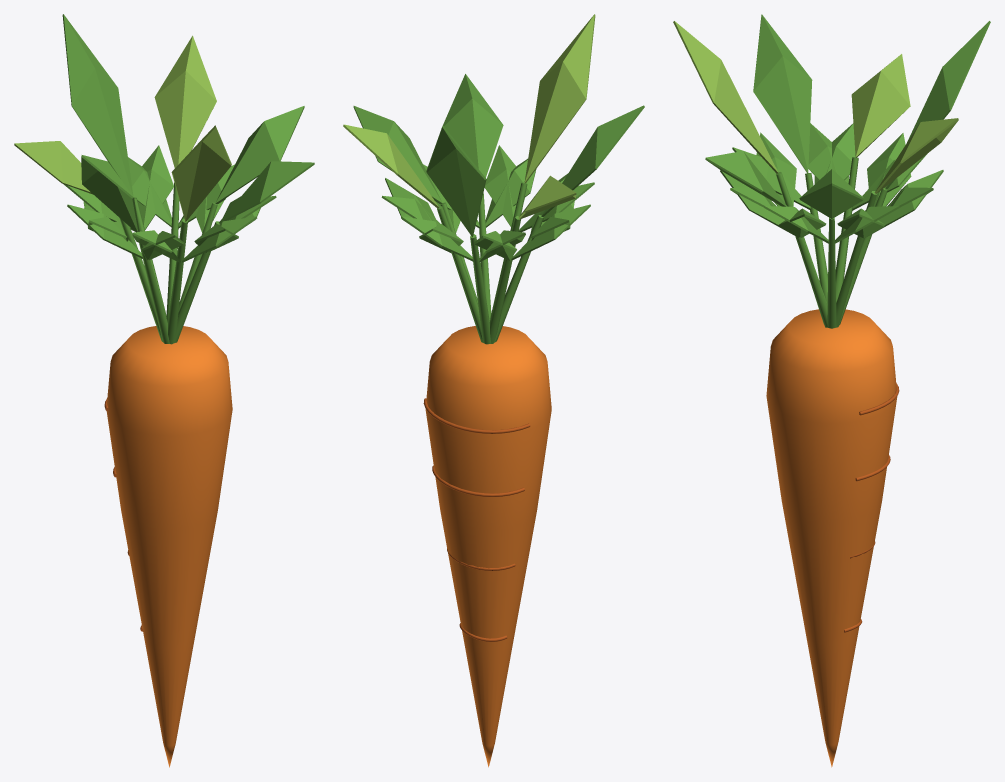
File: food_carrot.glb
3 renders of one model, left to right at view 1: azimuth 30°, elevation 25°; view 2: azimuth 150°, elevation 25°; view 3: azimuth 270°, elevation 25°, orthographic. The views are drawn at different scales.
Parts seen in each view (by area): view 1: Tapered carrot root, Carrot leaf.002, Carrot leaf.001, Carrot leaf, Carrot leaf.005, Carrot leaf.004, Carrot leaf.006, Carrot leaf.003, Carrot side leaflet.004, Carrot side leaflet.003, Leaf stem.005, Carrot side leaflet.008 (+8 smaller); view 2: Tapered carrot root, Carrot leaf.005, Carrot leaf.002, Carrot leaf.006, Carrot leaf.004, Carrot leaf.001, Carrot leaf, Carrot side leaflet.011, Carrot leaf.003, Carrot side leaflet.012, Leaf stem.002, Carrot side leaflet.007 (+10 smaller); view 3: Tapered carrot root, Carrot leaf.004, Carrot leaf.003, Carrot leaf.005, Carrot leaf.002, Carrot leaf.001, Carrot leaf, Carrot leaf.006, Carrot side leaflet.005, Carrot side leaflet.007, Carrot side leaflet.008, Leaf stem (+14 smaller).
Part boxes in pixels (bbox=[...]): Tapered carrot root: bbox=[106, 326, 232, 767]; Carrot leaf.002: bbox=[62, 14, 133, 196]; Carrot leaf.001: bbox=[154, 35, 216, 168]; Carrot leaf: bbox=[215, 106, 304, 203]; Carrot leaf.005: bbox=[171, 125, 231, 221]; Carrot leaf.004: bbox=[81, 155, 139, 232]; Carrot leaf.006: bbox=[219, 161, 314, 223]; Carrot leaf.003: bbox=[14, 141, 92, 194]; Carrot side leaflet.004: bbox=[137, 145, 173, 229]; Carrot side leaflet.003: bbox=[128, 157, 171, 227]; Leaf stem.005: bbox=[168, 219, 187, 344]; Carrot side leaflet.008: bbox=[67, 204, 142, 258]; Tapered carrot root: bbox=[425, 326, 551, 767]; Carrot leaf.005: bbox=[524, 14, 595, 183]; Carrot leaf.002: bbox=[426, 125, 486, 237]; Carrot leaf.006: bbox=[443, 74, 503, 177]; Carrot leaf.004: bbox=[541, 105, 644, 216]; Carrot leaf.001: bbox=[343, 124, 439, 208]; Carrot leaf: bbox=[353, 106, 442, 203]; Carrot side leaflet.011: bbox=[484, 145, 524, 226]; Carrot leaf.003: bbox=[518, 175, 576, 219]; Carrot side leaflet.012: bbox=[485, 158, 536, 227]; Leaf stem.002: bbox=[470, 234, 491, 344]; Carrot side leaflet.007: bbox=[511, 204, 590, 260]; Tapered carrot root: bbox=[766, 309, 897, 767]; Carrot leaf.004: bbox=[753, 14, 812, 173]; Carrot leaf.003: bbox=[851, 54, 910, 157]; Carrot leaf.005: bbox=[673, 21, 778, 173]; Carrot leaf.002: bbox=[885, 21, 990, 189]; Carrot leaf.001: bbox=[874, 118, 958, 193]; Carrot leaf: bbox=[799, 169, 864, 218]; Carrot leaf.006: bbox=[705, 151, 787, 206]; Carrot side leaflet.005: bbox=[867, 133, 911, 206]; Carrot side leaflet.007: bbox=[808, 123, 848, 183]; Carrot side leaflet.008: bbox=[814, 123, 855, 183]; Leaf stem: bbox=[827, 217, 836, 328].
Size of the model in its own units: 0.1412 by 0.37 by 0.1456.
